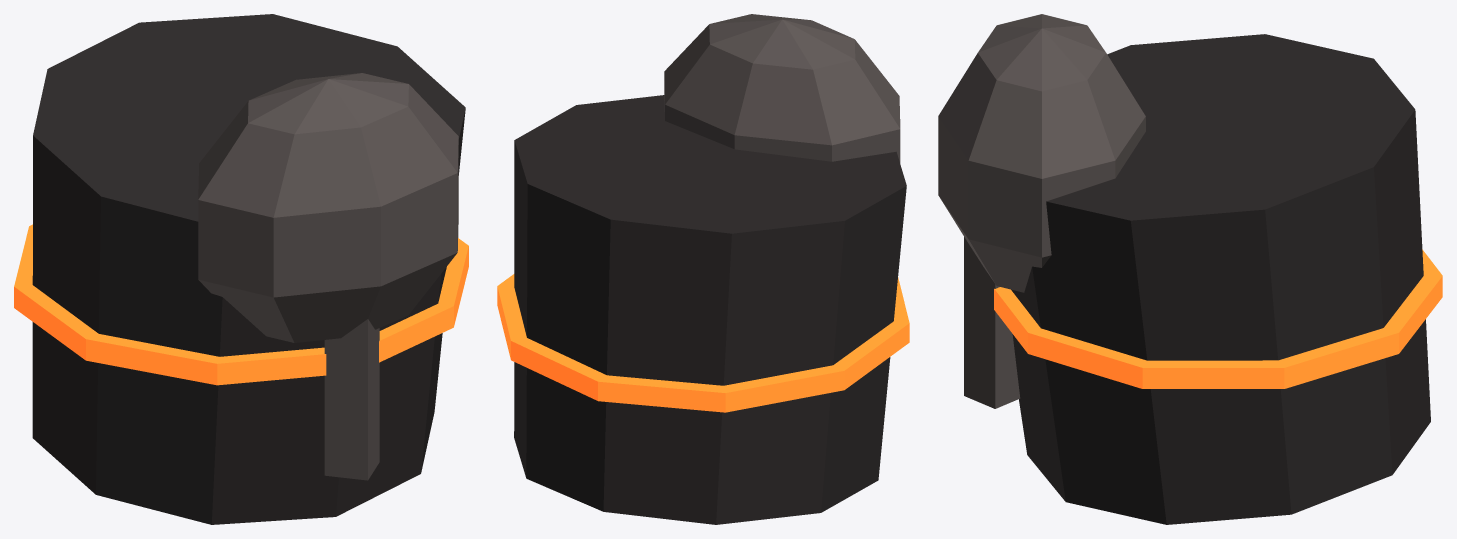
The model's file is hearth_guard_greave_l.glb.
3 renders of one model, left to right at view 1: azimuth 30°, elevation 25°; view 2: azimuth 150°, elevation 25°; view 3: azimuth 270°, elevation 25°, orthographic. The views are drawn at different scales.
Visible parts, largest first — view 1: hearth_guard_greave_l; view 2: hearth_guard_greave_l; view 3: hearth_guard_greave_l.
Part boxes in pixels (left/top/right/bottom): hearth_guard_greave_l: left=14, top=14, right=468, bottom=524; hearth_guard_greave_l: left=497, top=14, right=909, bottom=524; hearth_guard_greave_l: left=938, top=14, right=1442, bottom=524.
Size of the model in its own units: 0.2796 by 0.3018 by 0.3236.
